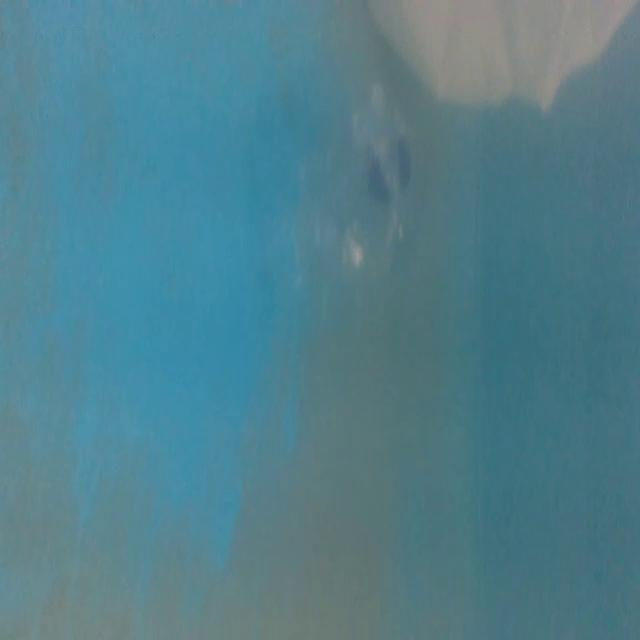plastic bags: (360, 3, 629, 113)
